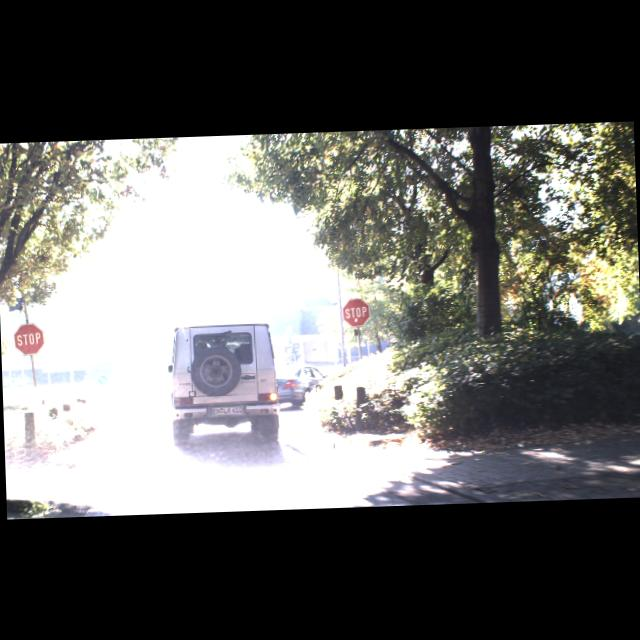other: (12, 322, 44, 356), (341, 296, 370, 326)
